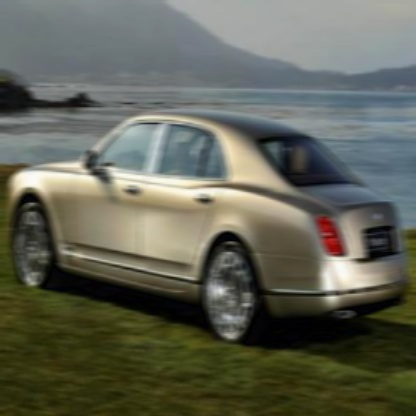Vehicle: (6, 109, 413, 349)
